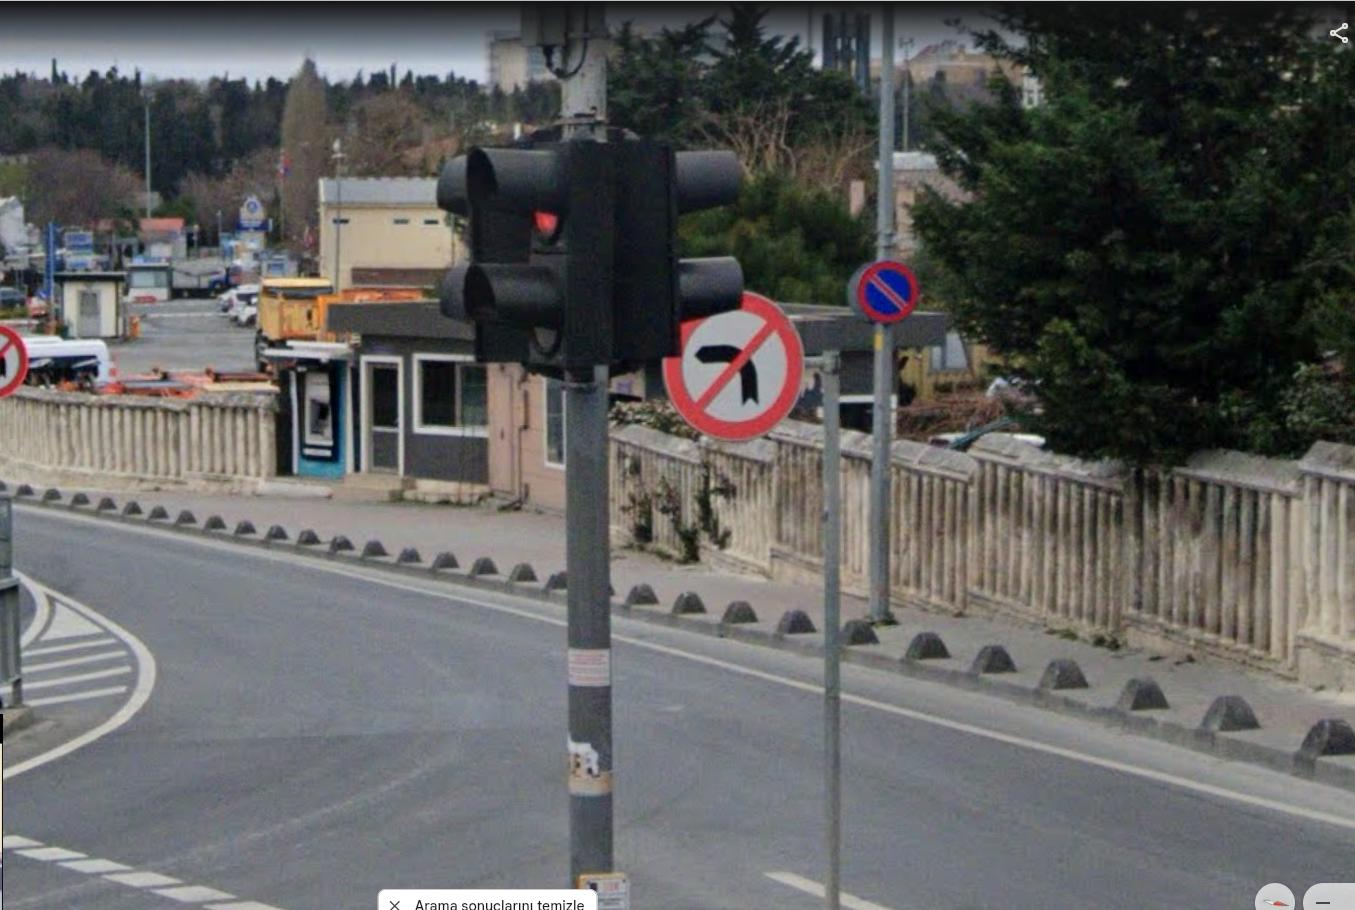leftturnsareforbidden: (680, 302, 789, 420)
